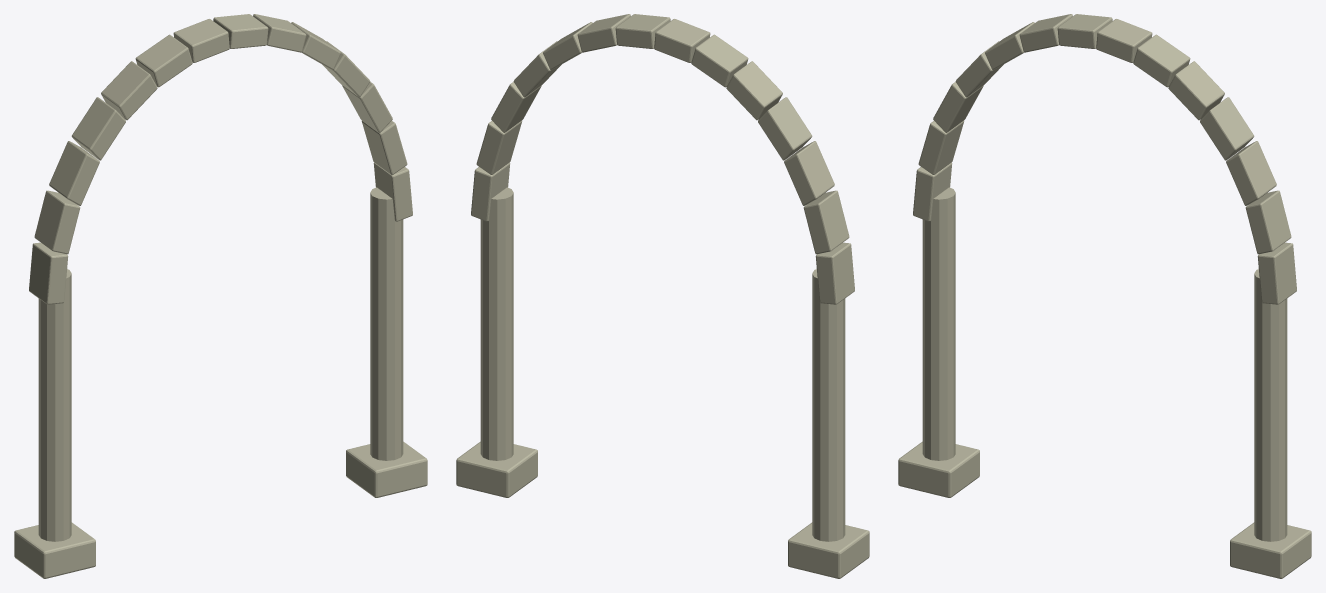
Rendered from a4_arch.glb.
The picture shows the model from 3 angles, left to right: view 1: azimuth 30°, elevation 25°; view 2: azimuth 150°, elevation 25°; view 3: azimuth 330°, elevation 25°; orthographic projection.
Parts seen in each view (by area): view 1: Body.041; view 2: Body.041; view 3: Body.041.
Part boxes in pixels (x1,y1,x2,y2): Body.041: [14, 14, 427, 578]; Body.041: [456, 14, 869, 578]; Body.041: [898, 14, 1311, 578].
Size of the model in its own units: 3.48 by 4.3 by 0.48.
